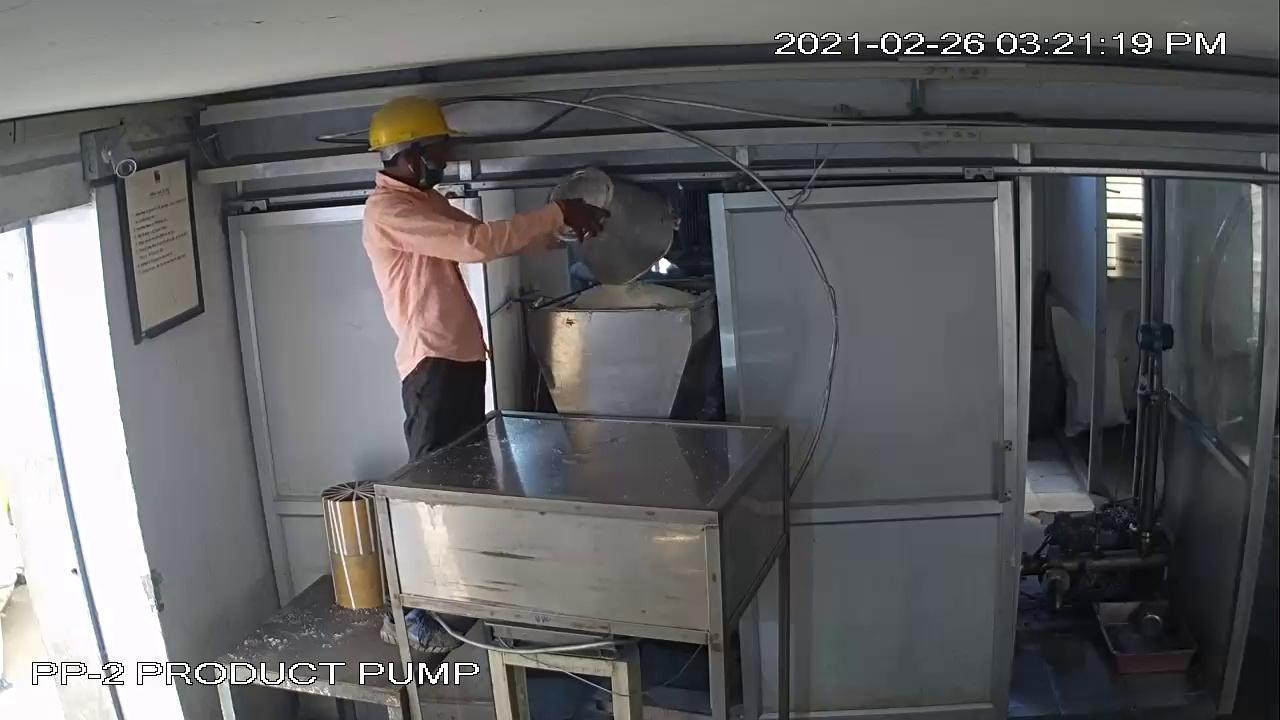helmet: (361, 91, 472, 160)
